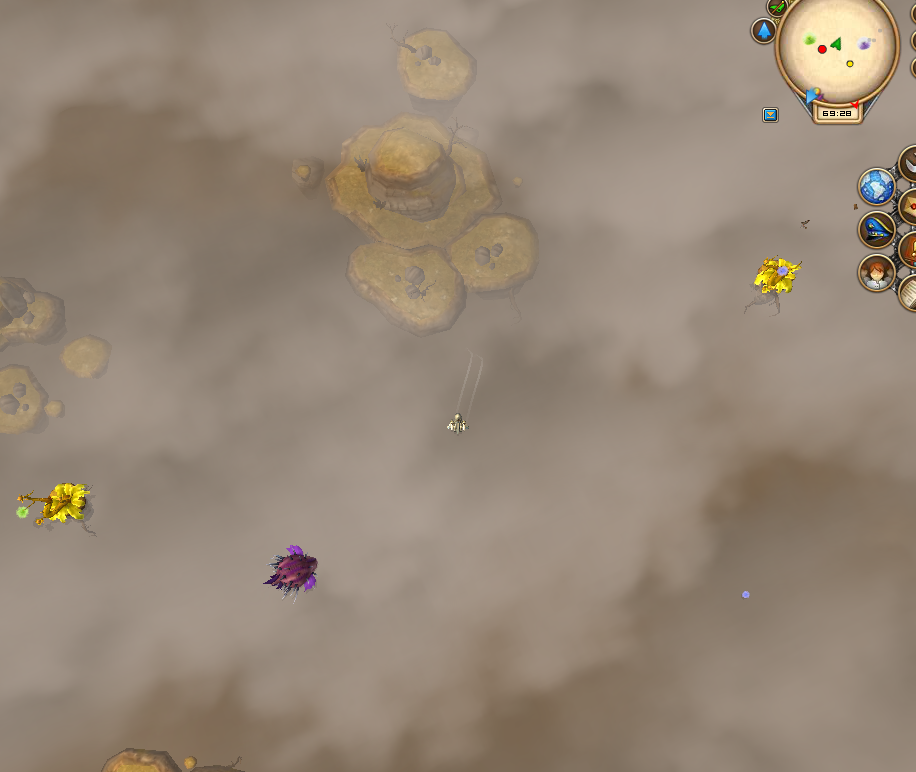dandelion-full: (10, 478, 104, 540), (742, 250, 805, 311)
fluff: (736, 584, 757, 612)
